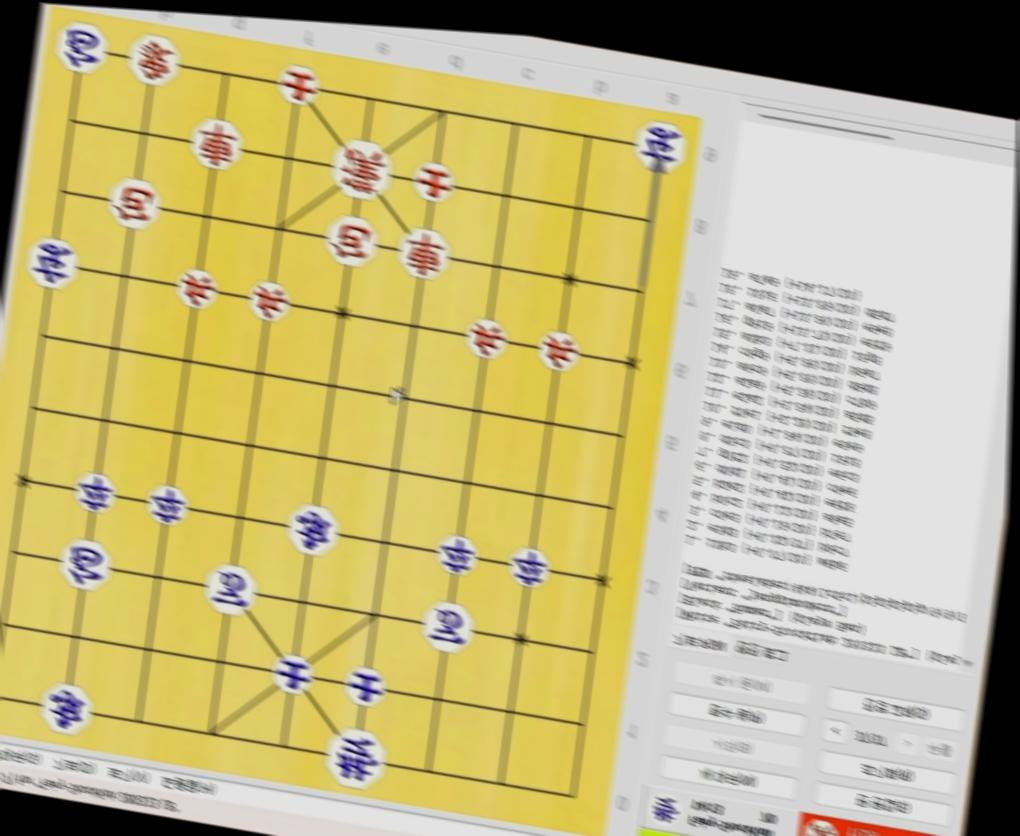cha_green: (22, 235, 80, 292), (631, 120, 687, 176)
cha_red: (187, 118, 246, 173), (396, 227, 453, 281)
jol_green: (436, 532, 482, 575), (506, 544, 552, 587), (143, 483, 189, 525), (72, 470, 117, 512)
jol_red: (174, 264, 220, 313), (534, 329, 581, 373), (465, 316, 509, 362), (245, 279, 291, 321)
ma_green: (201, 559, 258, 618), (418, 599, 475, 653)
po_green: (56, 534, 115, 595), (55, 23, 112, 75)
po_red: (106, 180, 163, 233), (325, 217, 380, 270)
sa_green: (270, 650, 318, 699), (341, 663, 389, 710)
sa_red: (409, 160, 458, 206), (276, 61, 322, 108)
sang_green: (285, 501, 342, 559), (38, 681, 94, 735)
sang_red: (124, 33, 183, 87)
wang_green: (322, 726, 388, 790)
wang_red: (327, 137, 395, 203)
